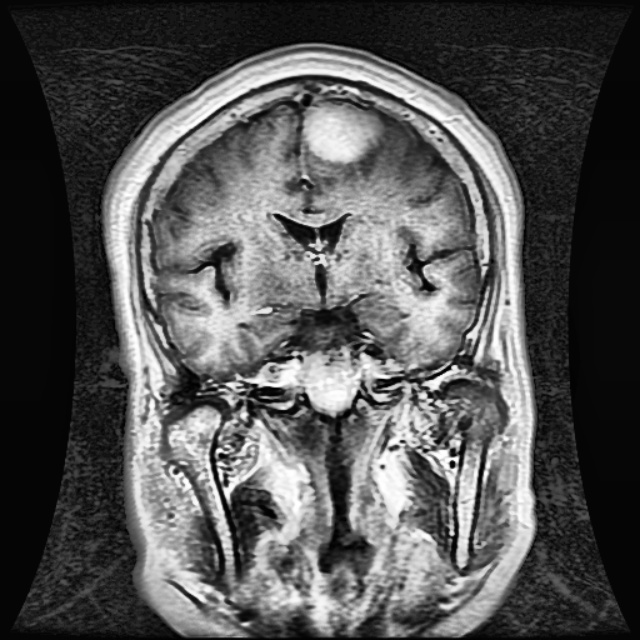Glioma: (304, 98, 383, 158)
